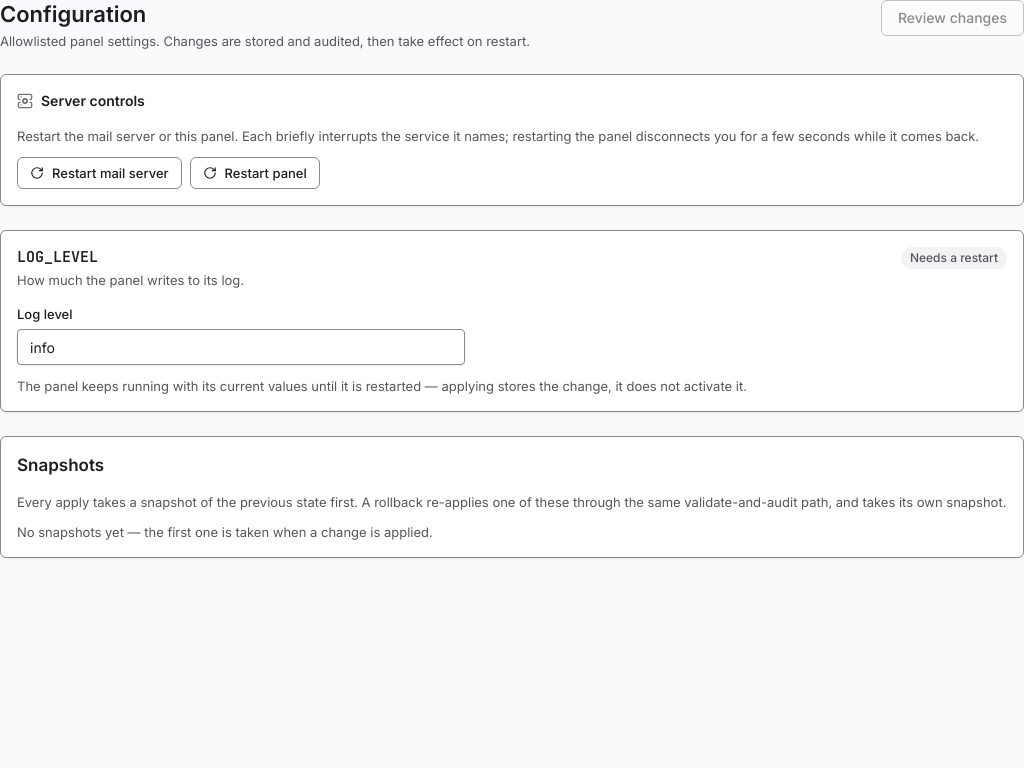
Test case: ConfigPage — impact is explained before confirming › states that applying stores the change rather than activating it
The width and height of the screenshot is (1024, 768).
Replace the text in the field labelled "Log level" with "debug" at (241, 347), box [17, 329, 465, 365]
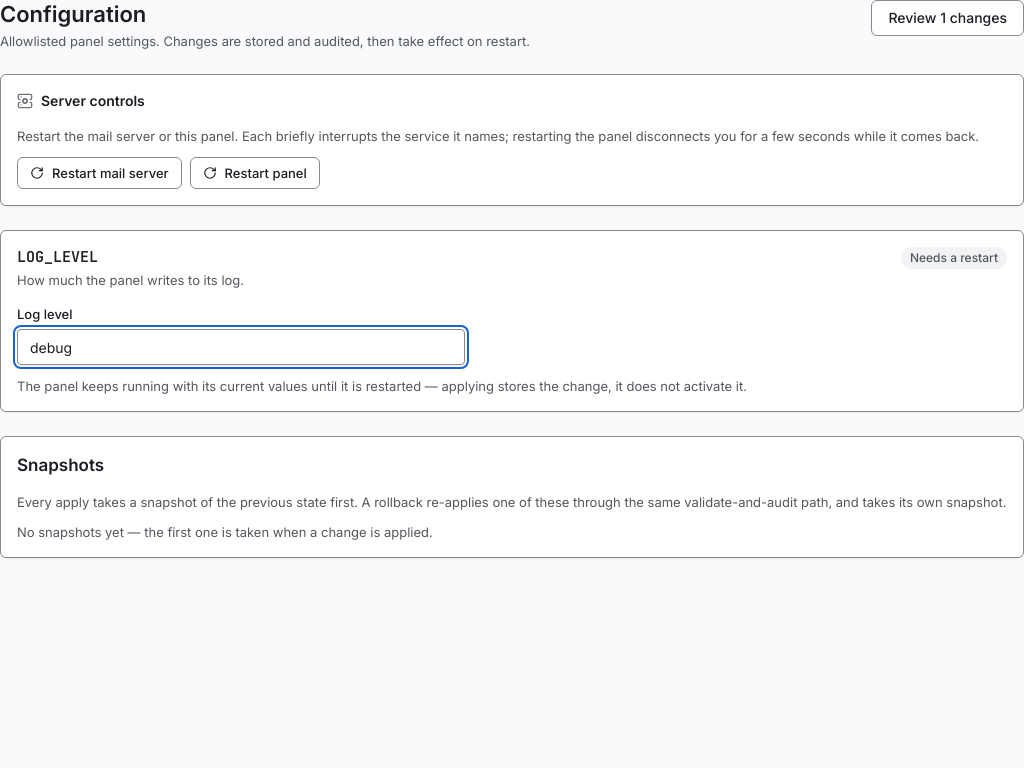
Click the button "Review 1 changes" at (948, 18), box [871, 0, 1023, 36]
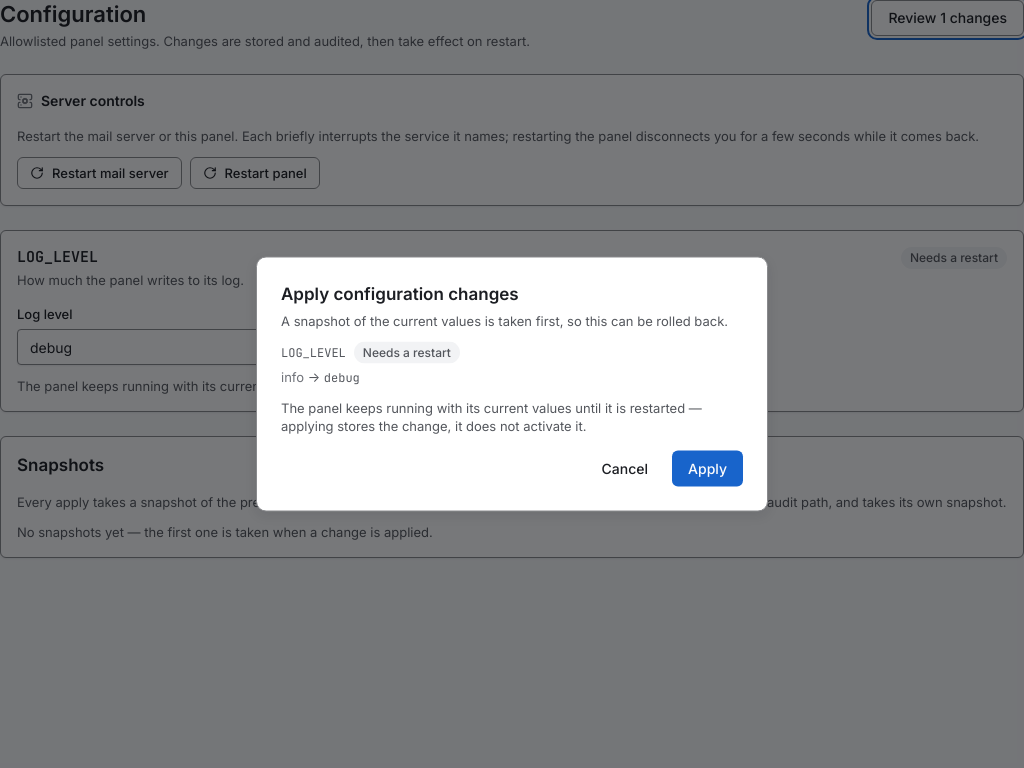
Expected: the text "it does not activate it" is shown, [281, 400, 702, 434]
